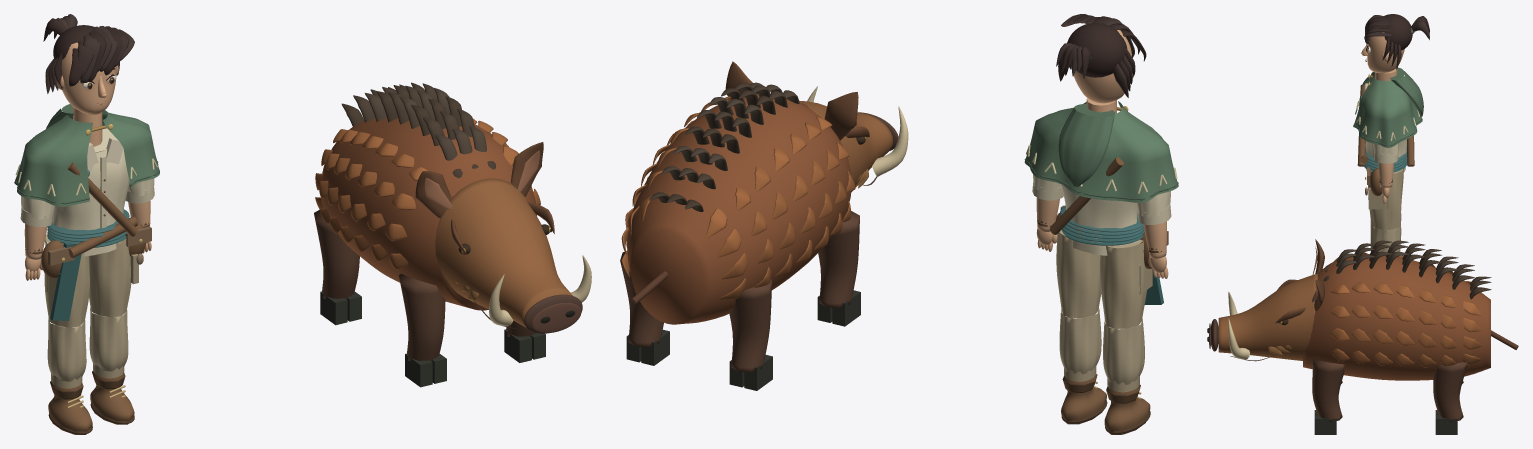
File: pipeline_check.glb
The picture shows the model from 3 angles, left to right: view 1: azimuth 30°, elevation 25°; view 2: azimuth 150°, elevation 25°; view 3: azimuth 270°, elevation 25°; orthographic projection. The views are drawn at different scales.
Visible parts, largest first — view 1: _MeshInstance3D_211, _MeshInstance3D_283, _MeshInstance3D_144, _MeshInstance3D_25, _MeshInstance3D_216, _MeshInstance3D_14, _MeshInstance3D_212, _MeshInstance3D_15, _MeshInstance3D_4, _MeshInstance3D_94, _MeshInstance3D_3, _MeshInstance3D_83 (+14 smaller); view 2: _MeshInstance3D_211, _MeshInstance3D_144, _MeshInstance3D_3, FoldedHood, _MeshInstance3D_14, _MeshInstance3D_212, _MeshInstance3D_216, _MeshInstance3D_25, _MeshInstance3D_15, _MeshInstance3D_4, _MeshInstance3D_283, _MeshInstance3D_119 (+13 smaller); view 3: _MeshInstance3D_211, _MeshInstance3D_283, _MeshInstance3D_144, _MeshInstance3D_252, _MeshInstance3D_248, _MeshInstance3D_14, _MeshInstance3D_94, _MeshInstance3D_119, FoldedHood, _MeshInstance3D_15, _MeshInstance3D_250, _MeshInstance3D_254 (+2 smaller).
Boxes of the visible parts, x1,y1,x2,y2 form: _MeshInstance3D_211: [321, 117, 536, 310]; _MeshInstance3D_283: [435, 178, 572, 327]; _MeshInstance3D_144: [14, 110, 159, 206]; _MeshInstance3D_25: [52, 128, 129, 256]; _MeshInstance3D_216: [398, 273, 445, 361]; _MeshInstance3D_14: [88, 238, 131, 317]; _MeshInstance3D_212: [314, 210, 359, 298]; _MeshInstance3D_15: [89, 307, 128, 371]; _MeshInstance3D_4: [47, 317, 86, 381]; _MeshInstance3D_94: [61, 42, 116, 114]; _MeshInstance3D_3: [44, 234, 89, 327]; _MeshInstance3D_83: [50, 243, 81, 320]; _MeshInstance3D_211: [627, 94, 851, 324]; _MeshInstance3D_144: [1024, 101, 1178, 202]; _MeshInstance3D_3: [1100, 239, 1147, 328]; FoldedHood: [1058, 104, 1115, 186]; _MeshInstance3D_14: [1056, 230, 1101, 318]; _MeshInstance3D_212: [729, 279, 771, 372]; _MeshInstance3D_216: [818, 210, 859, 307]; _MeshInstance3D_25: [1060, 184, 1138, 255]; _MeshInstance3D_15: [1059, 308, 1101, 374]; _MeshInstance3D_4: [1103, 318, 1144, 384]; _MeshInstance3D_283: [799, 100, 893, 191]; _MeshInstance3D_119: [1067, 23, 1127, 77]; _MeshInstance3D_211: [1303, 254, 1490, 380]; _MeshInstance3D_283: [1218, 273, 1317, 360]; _MeshInstance3D_144: [1353, 72, 1422, 147]; _MeshInstance3D_252: [1312, 359, 1344, 421]; _MeshInstance3D_248: [1433, 362, 1467, 421]; _MeshInstance3D_14: [1368, 169, 1403, 230]; _MeshInstance3D_94: [1367, 32, 1404, 73]; _MeshInstance3D_119: [1384, 14, 1412, 50]; FoldedHood: [1389, 67, 1423, 116]; _MeshInstance3D_15: [1370, 225, 1401, 252]; _MeshInstance3D_250: [1435, 415, 1457, 434]; _MeshInstance3D_254: [1314, 415, 1336, 434].
Bounding box in the file's own units: 2.81 × 2.09 × 2.14.
